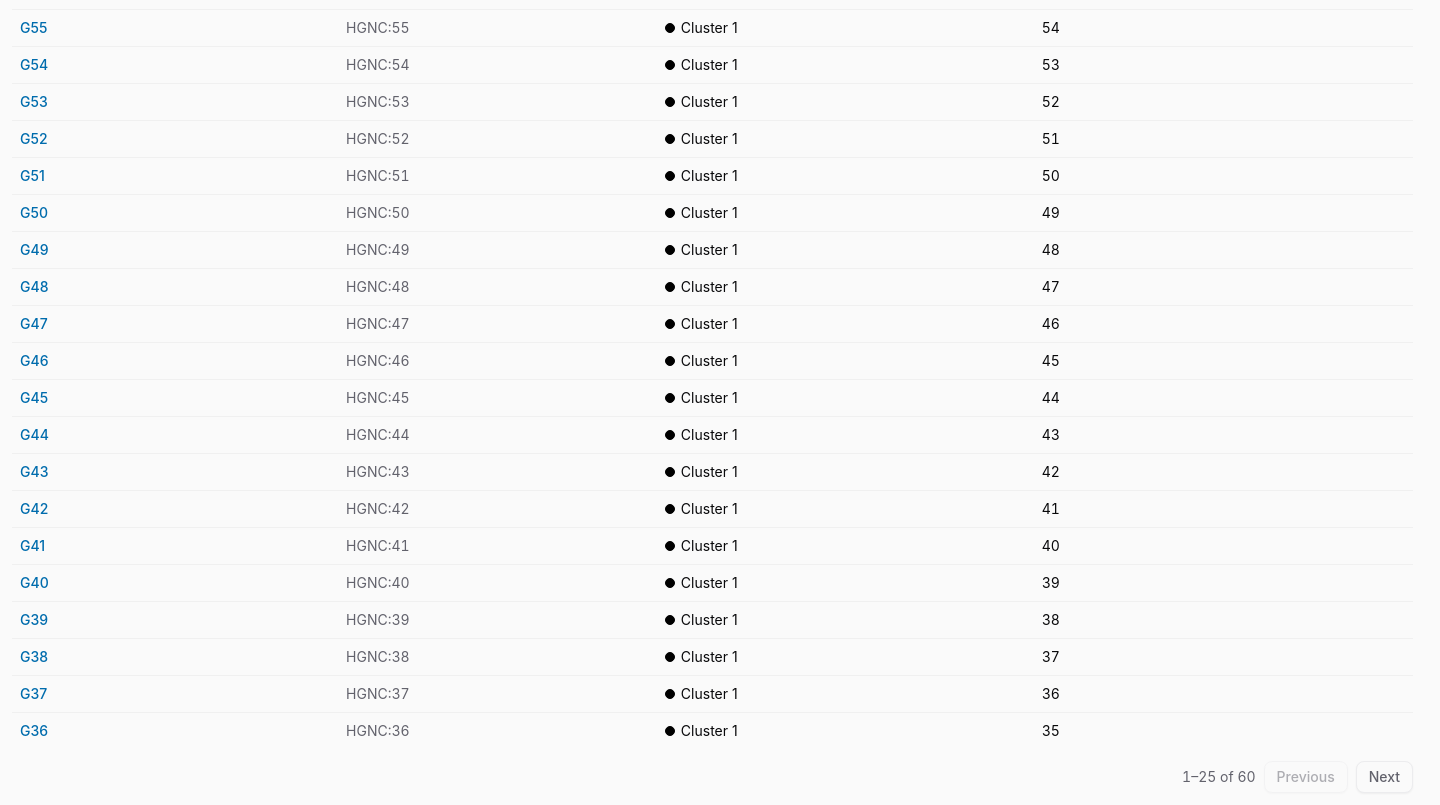
it: NetworkNodeTable › pages long lists
This screenshot has width=1440, height=805.
(page scrolled)
Click the button "Next" at (1384, 776), box [1356, 760, 1413, 792]
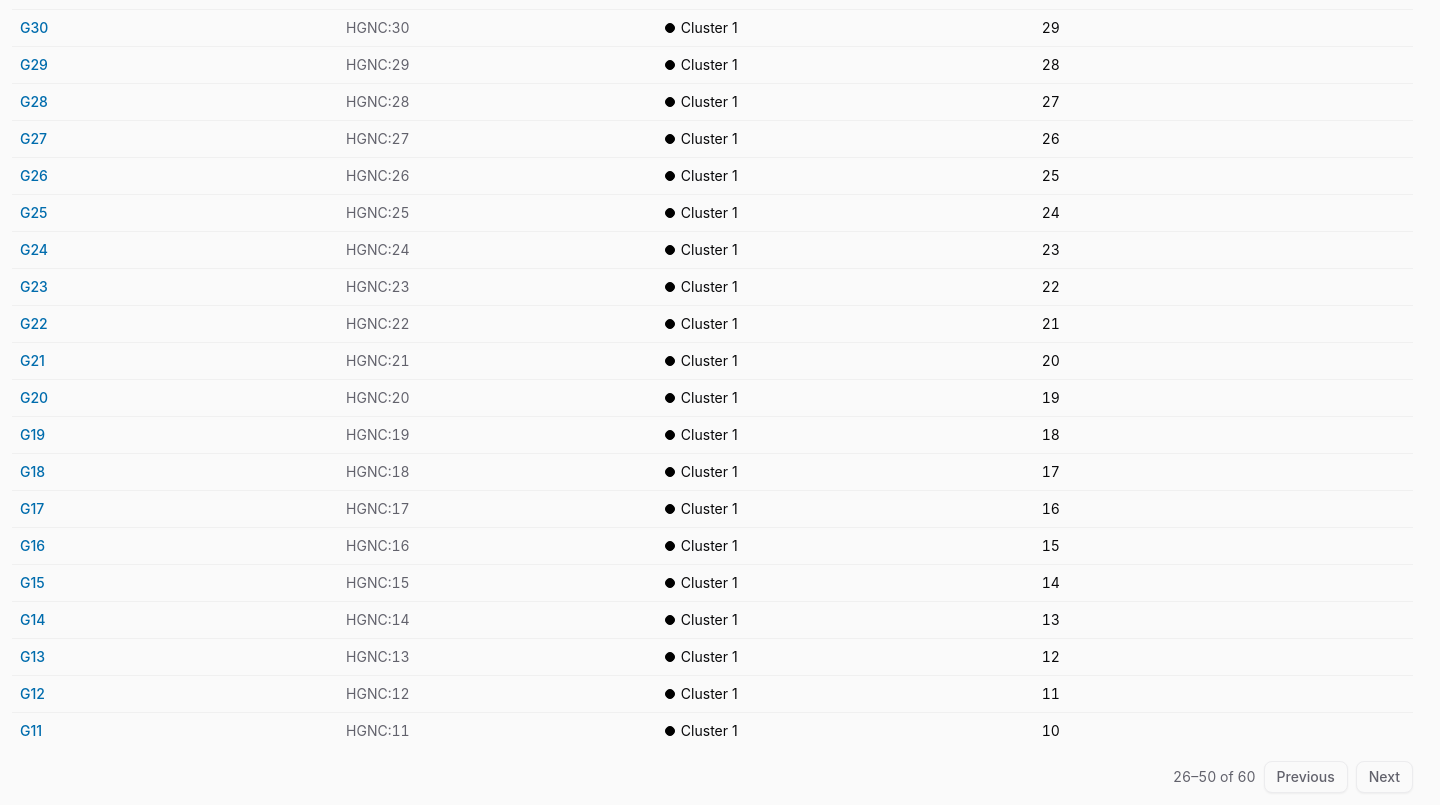
Check: the text "26–50 of 60" is shown, box [1173, 766, 1256, 786]
